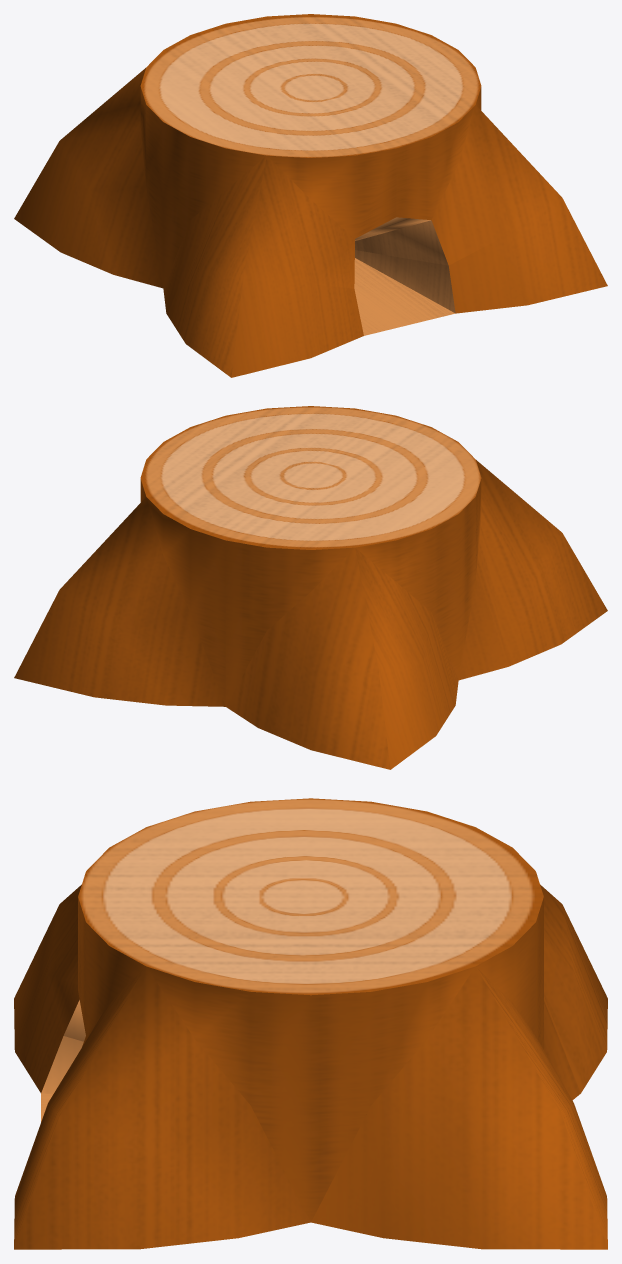
File: nestA.fbx
The picture shows the model from 3 angles, top to bottom: view 1: azimuth 30°, elevation 25°; view 2: azimuth 150°, elevation 25°; view 3: azimuth 270°, elevation 25°; orthographic projection. The views are drawn at different scales.
Parts seen in each view (by area): view 1: wood_ne00, wood_ne01, wood_ne02, wood_ne04, base; view 2: wood_ne00, wood_ne04, wood_ne03, wood_ne01; view 3: wood_ne00, wood_ne03, wood_ne02, wood_ne01, wood_ne04.
Part boxes in pixels (box(x1,y1,x2,y2)): wood_ne00: box(140, 14, 481, 287); wood_ne01: box(163, 156, 363, 377); wood_ne02: box(355, 105, 607, 313); wood_ne04: box(14, 68, 163, 288); base: box(354, 258, 454, 335); wood_ne00: box(140, 406, 481, 706); wood_ne04: box(226, 548, 458, 769); wood_ne03: box(14, 497, 225, 706); wood_ne01: box(458, 460, 607, 680); wood_ne00: box(78, 798, 543, 1221); wood_ne03: box(311, 966, 607, 1249); wood_ne02: box(14, 966, 310, 1249); wood_ne01: box(14, 884, 85, 1094); wood_ne04: box(540, 884, 607, 1100).
Size of the model in its own units: 4.26 by 1.8 by 4.26.
